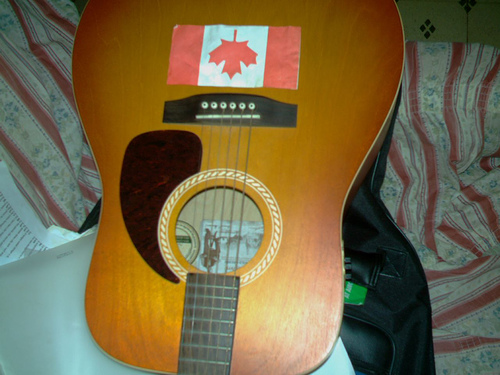guitar: (70, 1, 405, 375)
